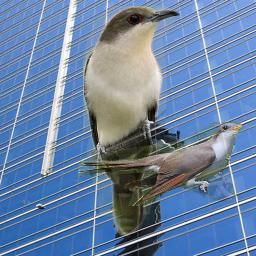Cuckoo: (83, 6, 181, 237), (78, 122, 242, 206)
